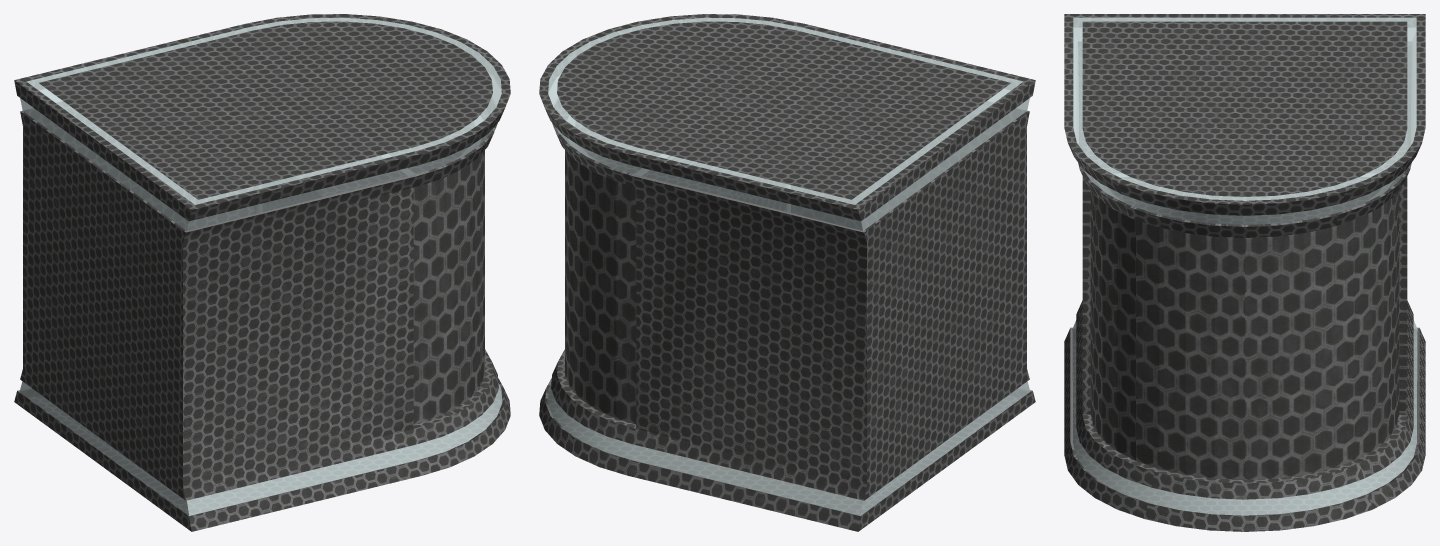
Rendered from RespawnChamber.fbx.
The picture shows the model from 3 angles, left to right: view 1: azimuth 30°, elevation 25°; view 2: azimuth 150°, elevation 25°; view 3: azimuth 270°, elevation 25°; orthographic projection.
Parts seen in each view (by area): view 1: Champber, Door_Right; view 2: Champber, Door_Left; view 3: Champber, Door_Left, Door_Right.
Boxes of the visible parts, bbox=[...] form: Champber: bbox=[14, 14, 510, 531]; Door_Right: bbox=[413, 150, 484, 424]; Champber: bbox=[539, 14, 1035, 531]; Door_Left: bbox=[565, 148, 636, 424]; Champber: bbox=[1064, 14, 1425, 531]; Door_Left: bbox=[1245, 179, 1399, 479]; Door_Right: bbox=[1090, 181, 1244, 479].
Size of the model in its own units: 2 by 2.5 by 2.
